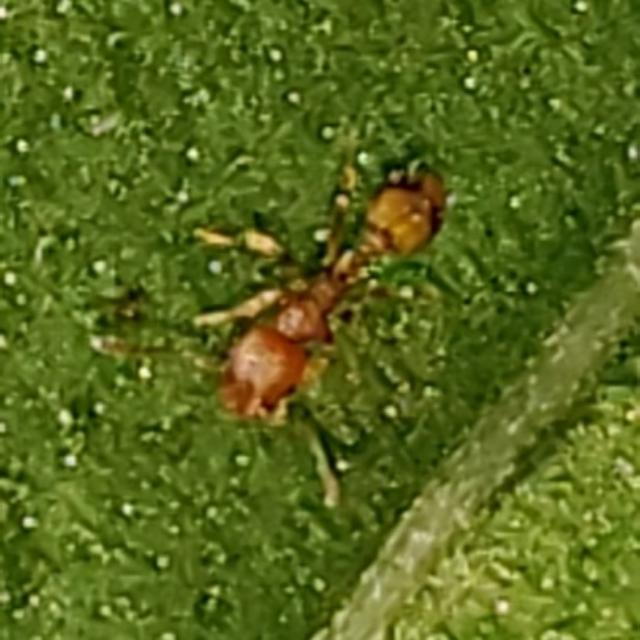Temnothorax: (183, 127, 497, 460)
